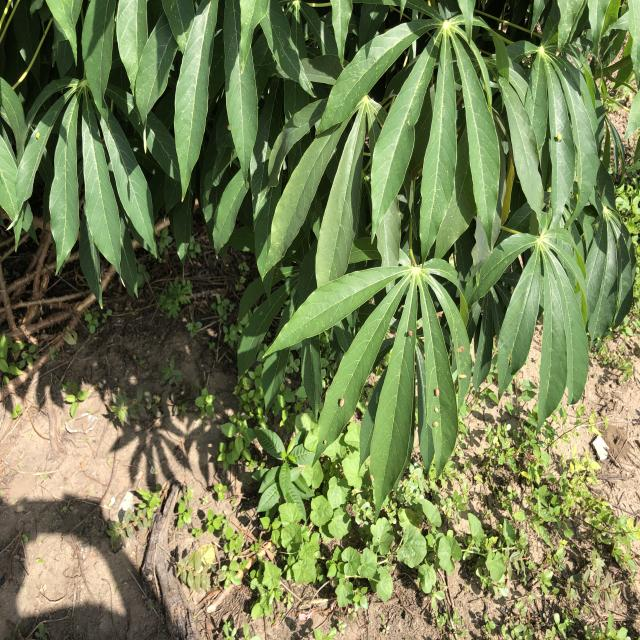Mosca: (545, 119, 578, 149), (456, 341, 472, 388), (432, 384, 448, 430), (330, 384, 354, 412), (29, 120, 50, 150), (320, 429, 336, 459), (405, 324, 418, 341)
